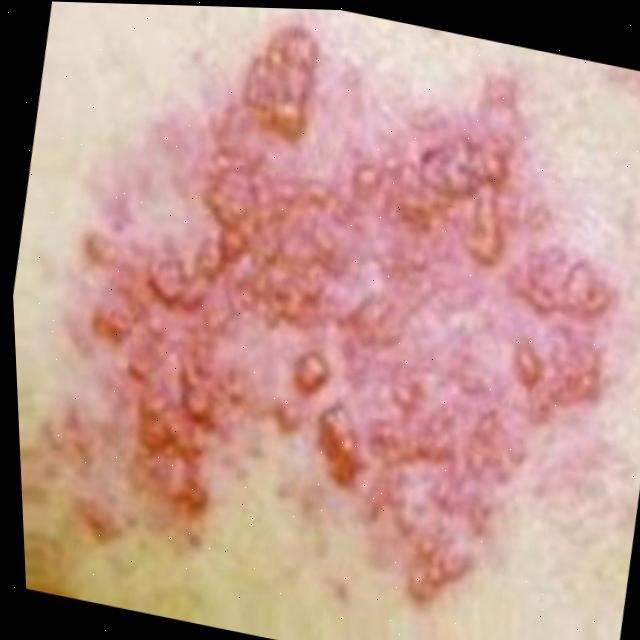Shingles: (21, 1, 640, 640)
